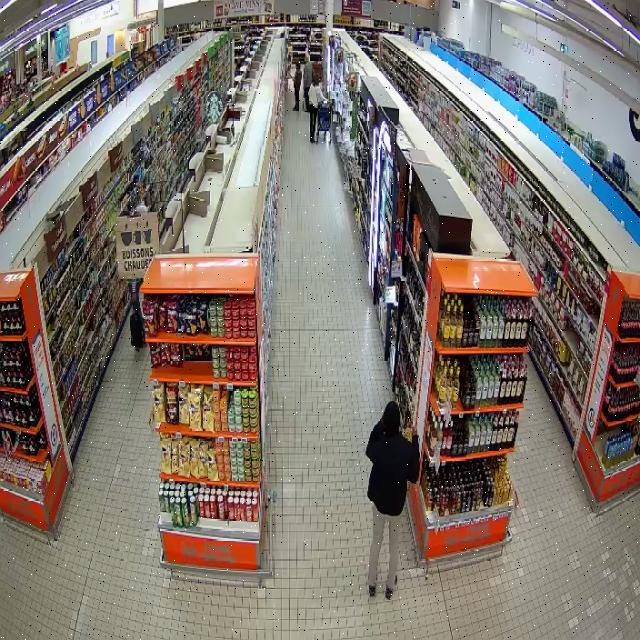article: (401, 428, 413, 439)
hands: (410, 426, 418, 436)
person: (365, 401, 418, 599)
